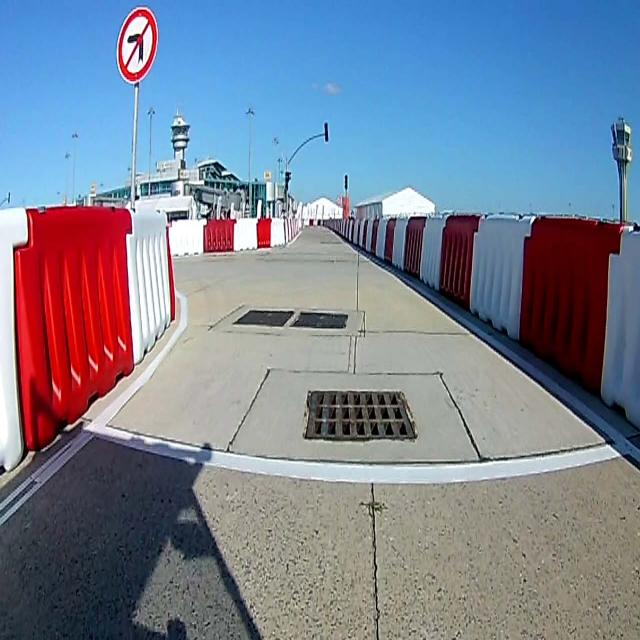soladonulmez: (114, 7, 160, 84)
